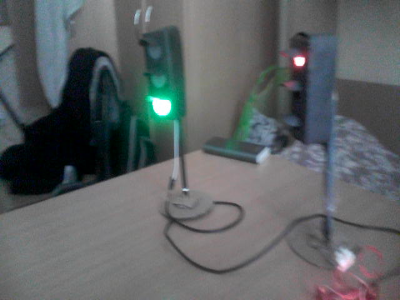trafficlight_green: (138, 32, 179, 117)
trafficlight_red: (282, 34, 309, 139)
